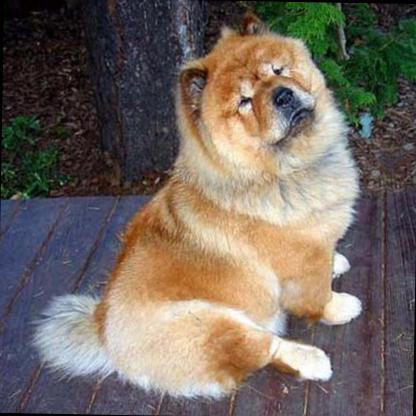chow: (29, 6, 367, 402)
